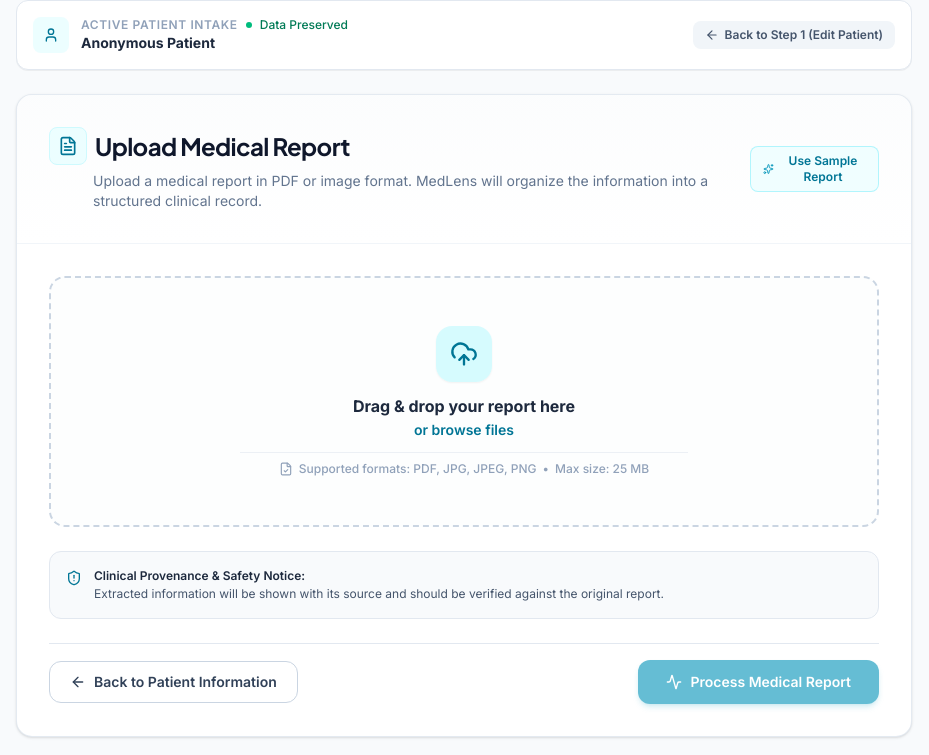
it: ReportProcessing Component › loads sample report when clicking Use Sample Report
Click the button "Use Sample Report" at (815, 169), box [750,146,879,192]
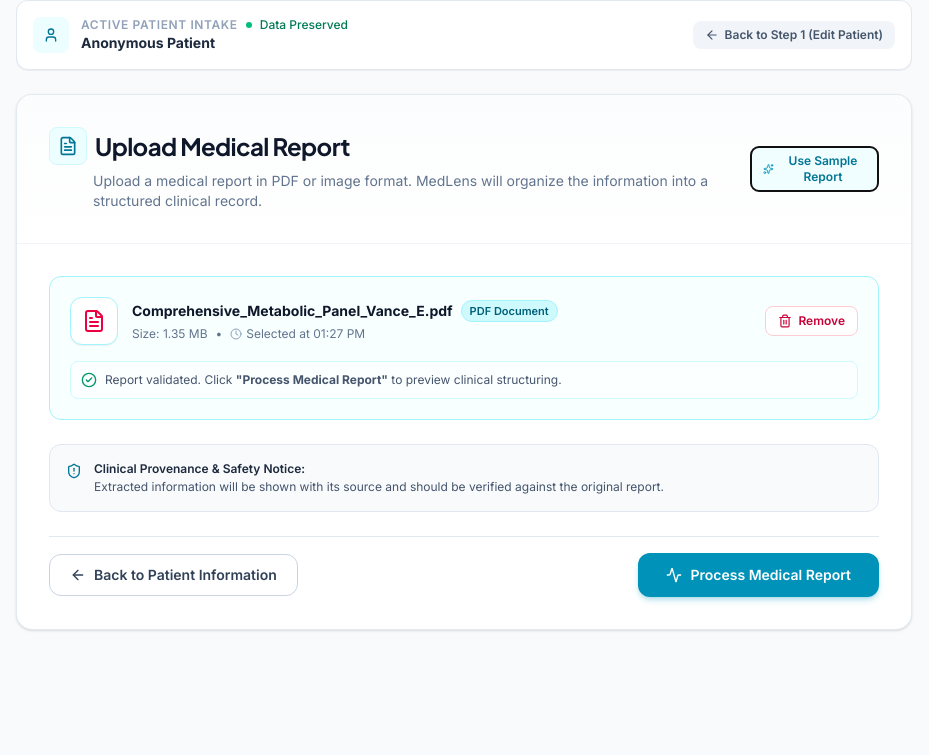
expect the text "Comprehensive_Metabolic_Panel_Vance_E.pdf" is shown: met, box [132,301,453,321]
expect the text "Report validated" is shown: met, box [105,372,236,387]
